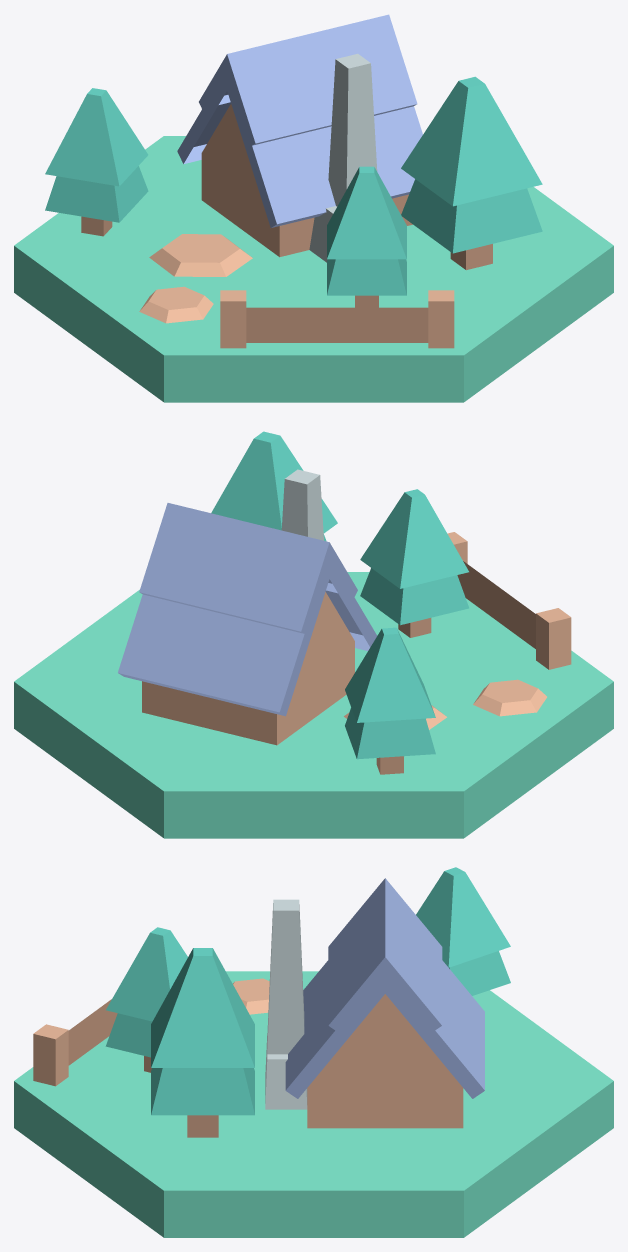
The model's file is GrassHouse.fbx.
3 views of the same model, one above another, from view 1: azimuth 30°, elevation 25°; view 2: azimuth 150°, elevation 25°; view 3: azimuth 270°, elevation 25° (orthographic).
Visible parts, largest first — view 1: building_house; view 2: building_house; view 3: building_house.
Part boxes in pixels (box(x1,y1,x2,y2)): building_house: box(14, 14, 613, 402); building_house: box(14, 431, 613, 838); building_house: box(14, 867, 613, 1237).
Bounding box in the file's own units: 100 × 50 × 115.
